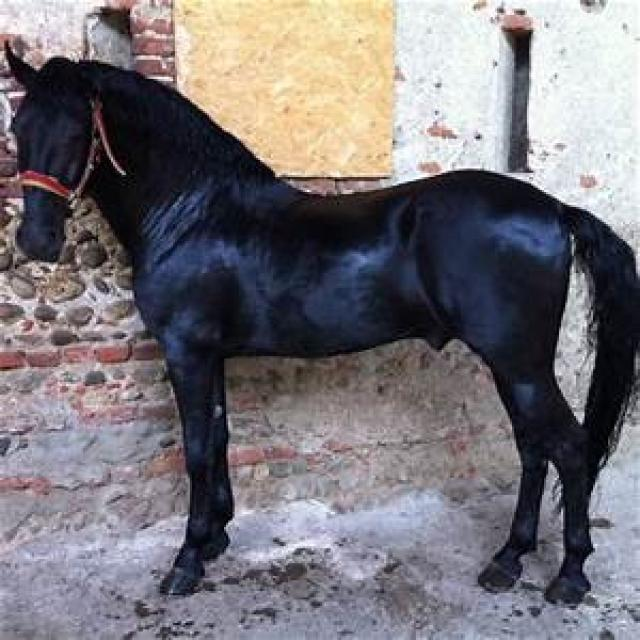horse: (8, 49, 640, 602)
